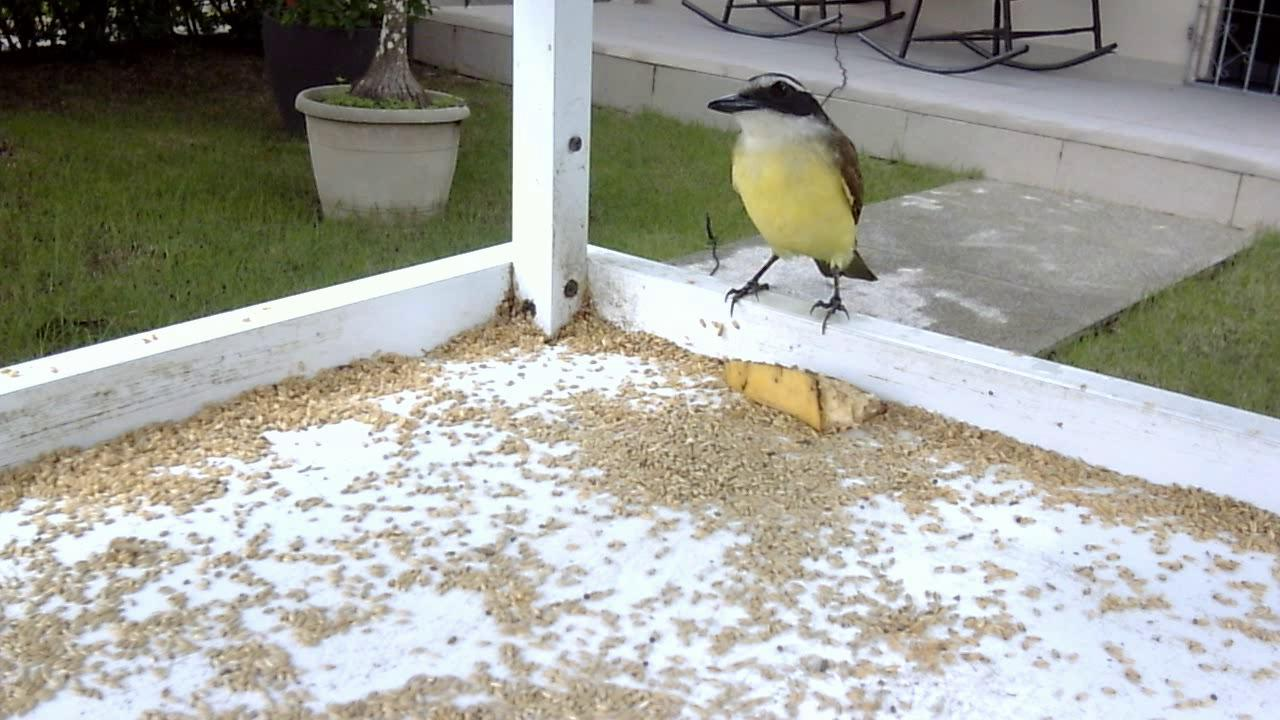bem_te_vi: (687, 47, 885, 349)
